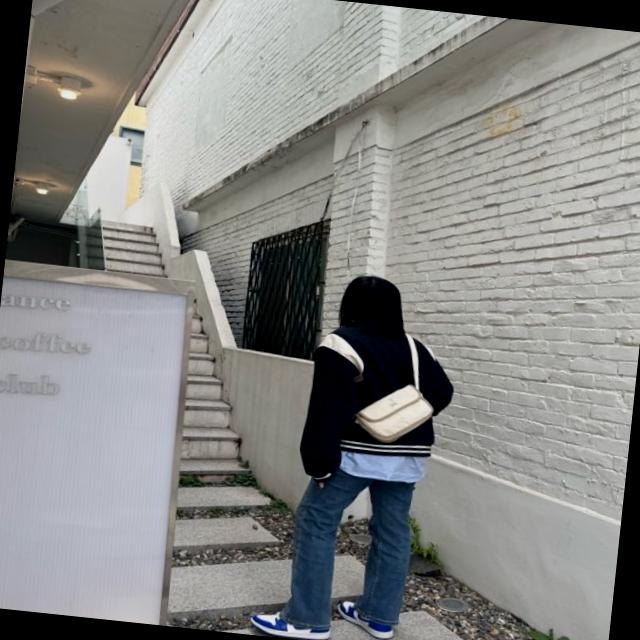denimpants: (283, 462, 422, 640)
jacket: (303, 318, 466, 491)
